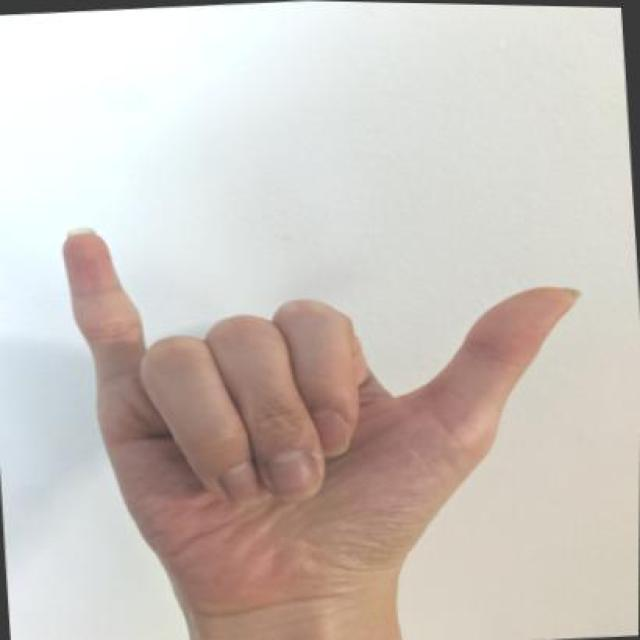Y: (50, 207, 600, 618)
